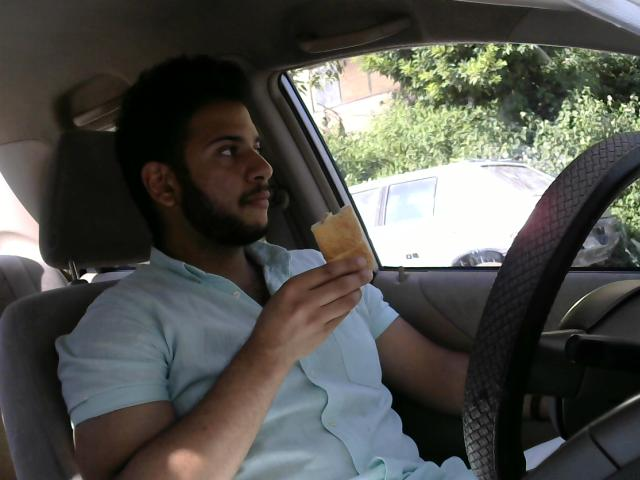Eating: (302, 196, 380, 295)
